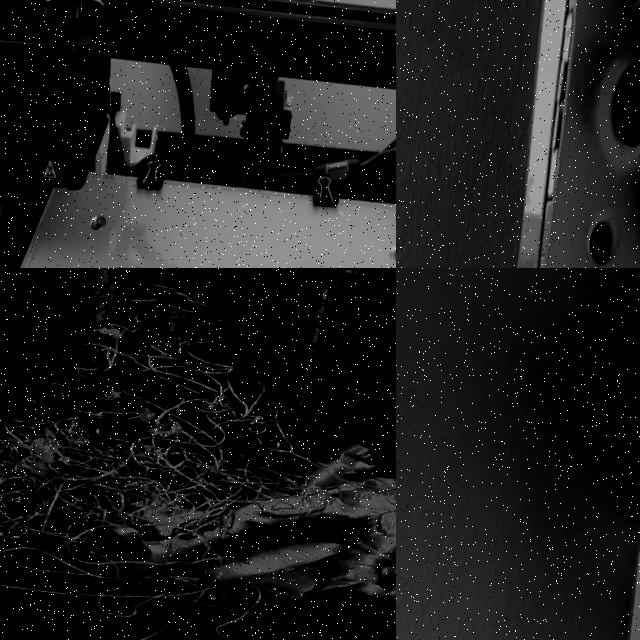spaghetti: (0, 302, 319, 609)
